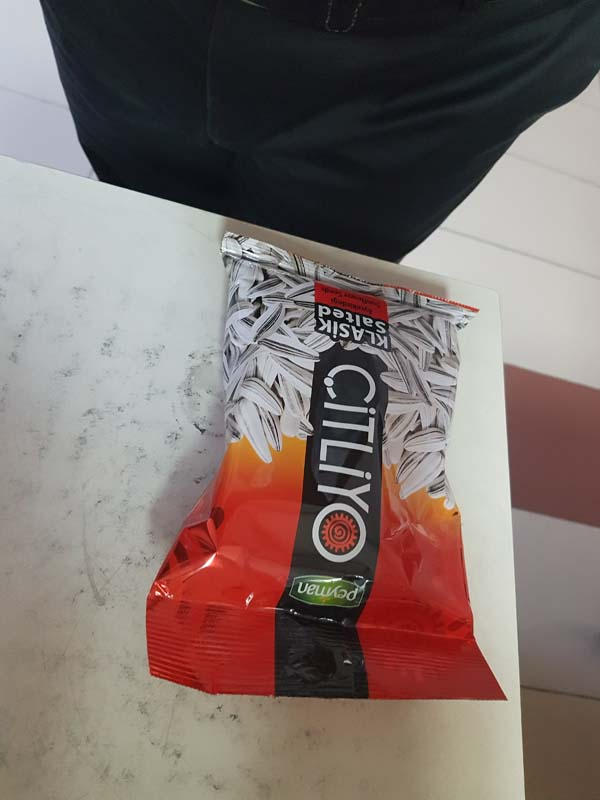citliyorklasik: (148, 228, 523, 710)
